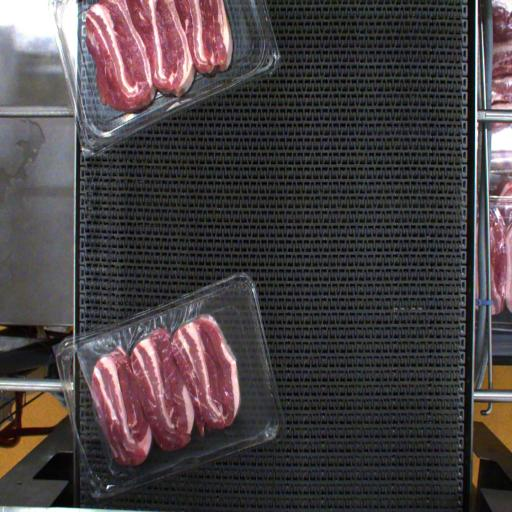unsealed: (61, 292, 255, 388)
